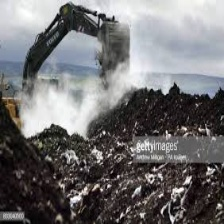smoke: (18, 81, 109, 135)
